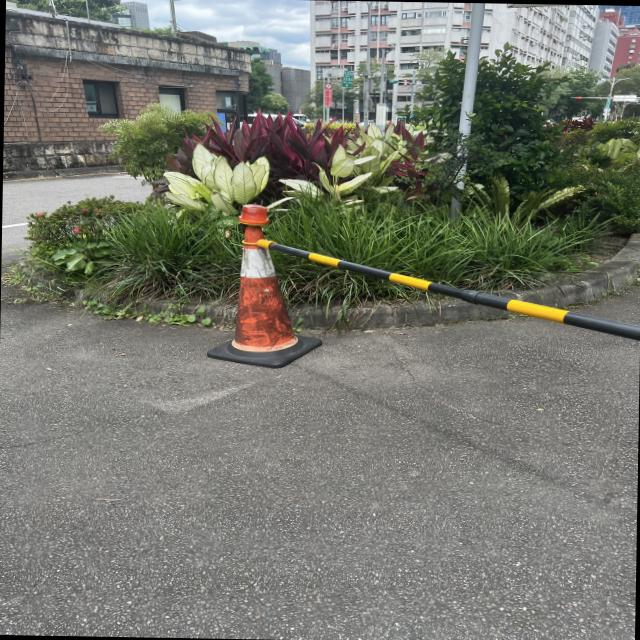cone: (211, 206, 312, 383)
